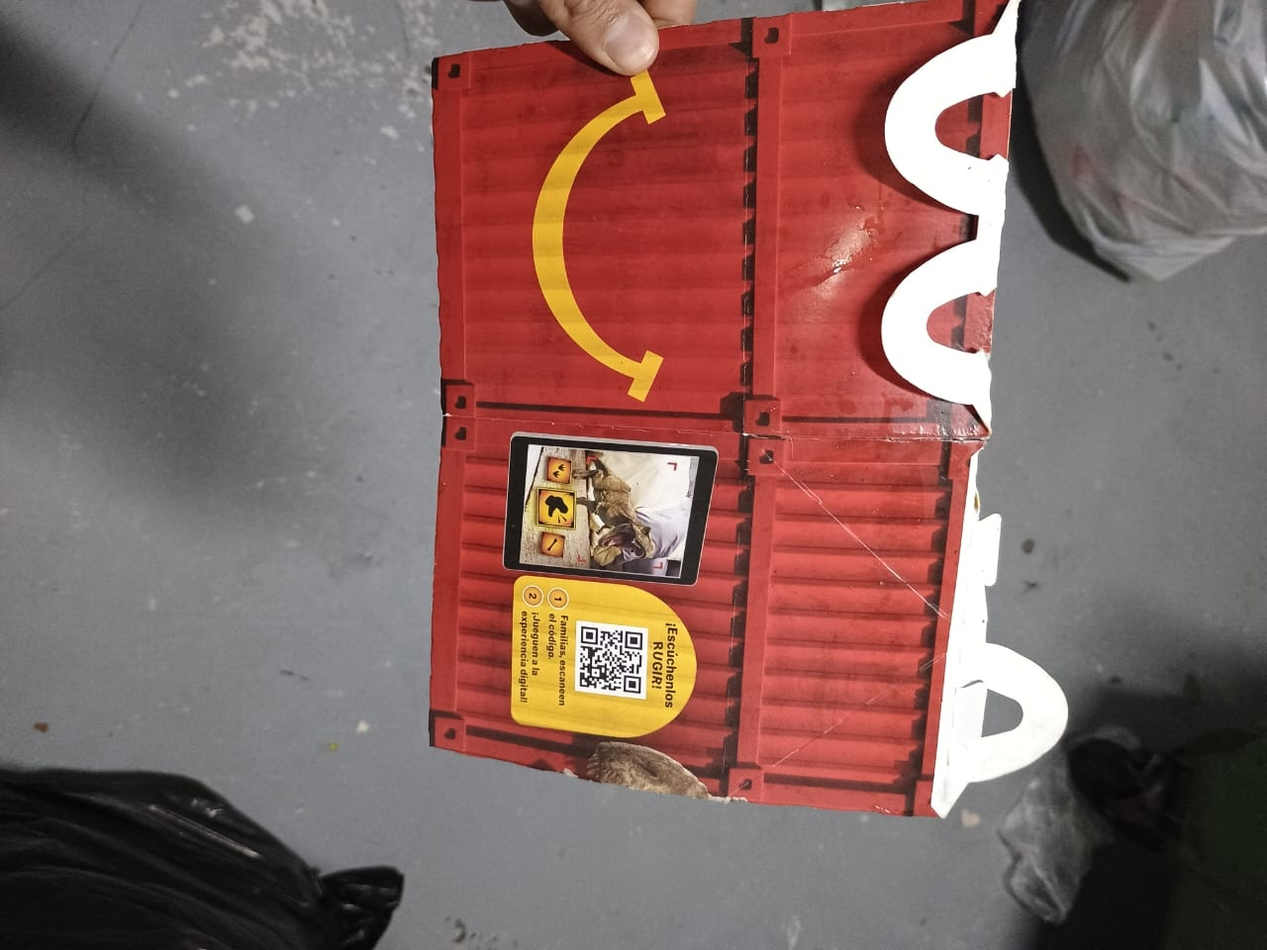Carton: (435, 0, 1071, 818)
